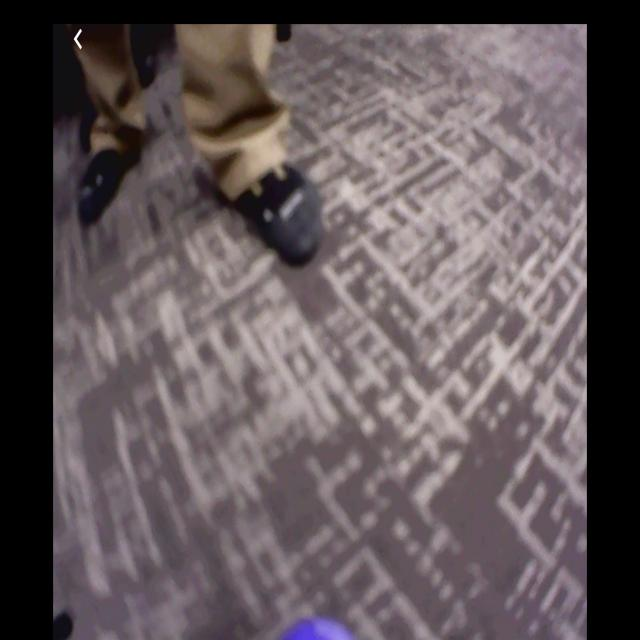ball: (280, 610, 356, 640)
